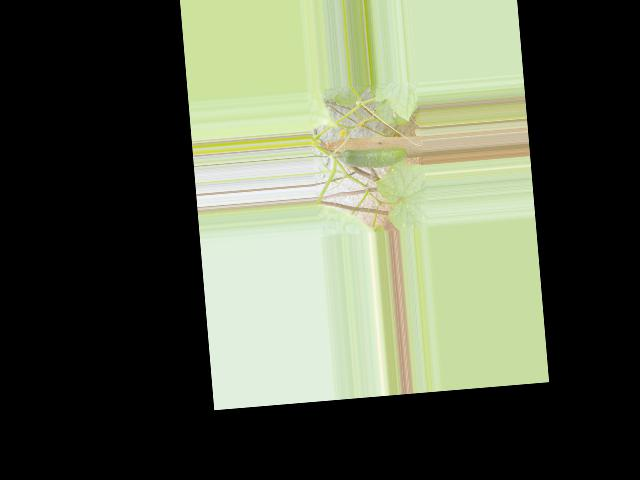cucumber: (340, 144, 408, 170)
